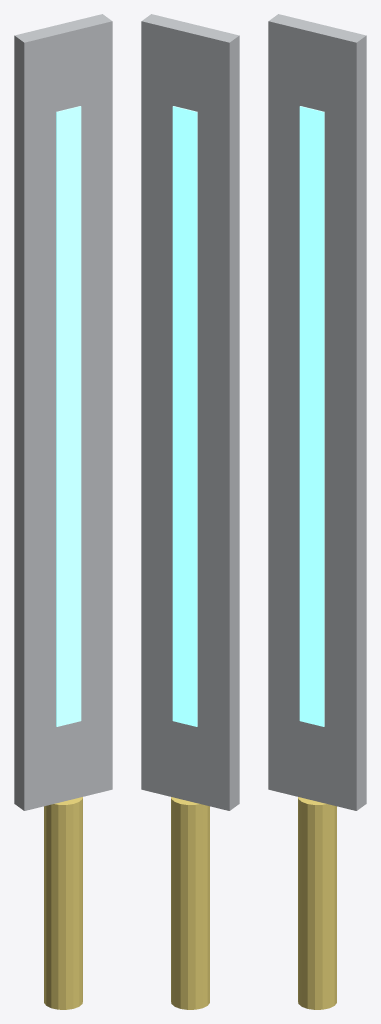
Rendered from rune_blade.glb.
3 renders of one model, left to right at view 1: azimuth 30°, elevation 25°; view 2: azimuth 150°, elevation 25°; view 3: azimuth 330°, elevation 25°, orthographic.
Parts seen in each view (by area): view 1: Cube, Cube.001, Cylinder; view 2: Cube, Cube.001, Cylinder; view 3: Cube, Cube.001, Cylinder.
Boxes of the visible parts, left/top/right/bottom form: Cube: left=14, top=14, right=112, bottom=810; Cube.001: left=56, top=106, right=81, bottom=726; Cylinder: left=44, top=797, right=82, bottom=1009; Cube: left=141, top=14, right=239, bottom=810; Cube.001: left=172, top=106, right=197, bottom=726; Cylinder: left=171, top=797, right=209, bottom=1009; Cube: left=268, top=14, right=366, bottom=810; Cube.001: left=299, top=106, right=324, bottom=726; Cylinder: left=298, top=797, right=336, bottom=1009.
Size of the model in its own units: 0.18 by 1.9 by 0.07.
